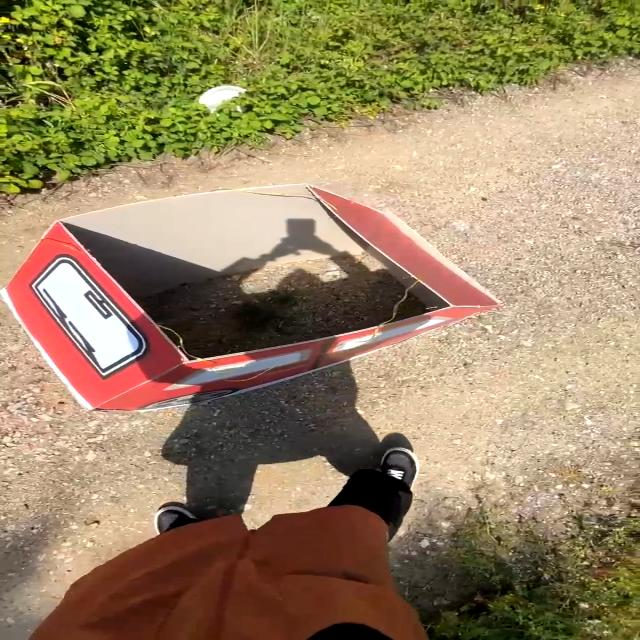red_car: (0, 166, 539, 438)
